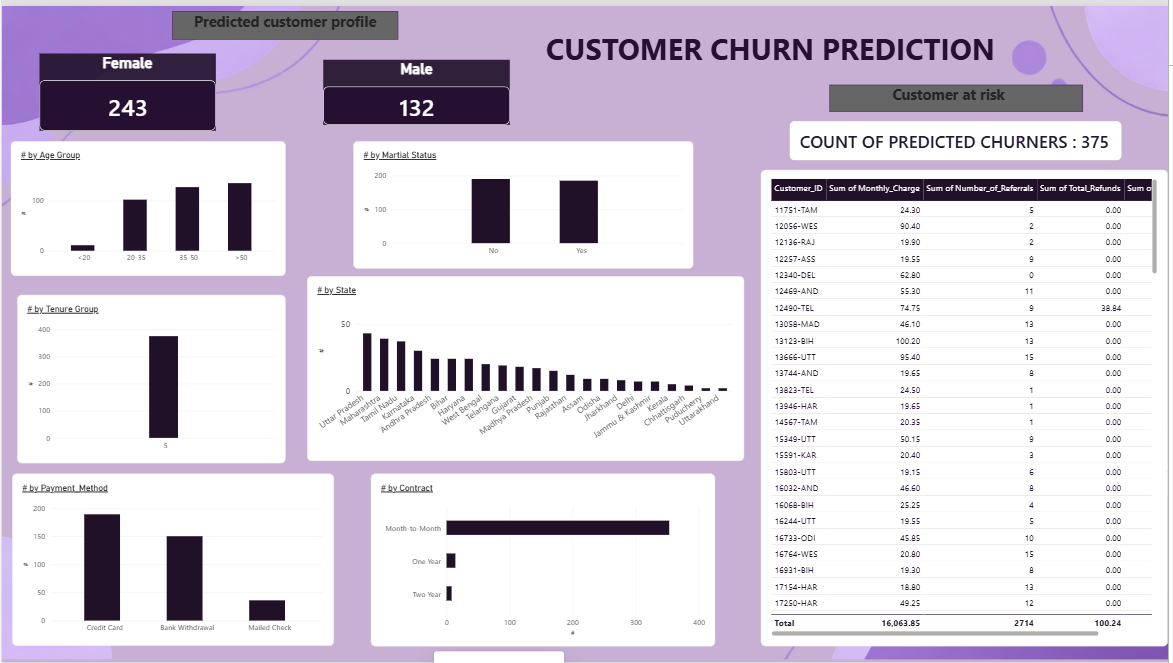

Layout of this report page (visuals, bound fields, positions):
{"tool":"powerbi","page":{"name":"Churn Prediction","canvas":[1920,1080],"ordinal":2},"visuals":[{"type":"tableEx","fields":{"Values":["Predictions.Customer_ID","Sum(Predictions.Monthly_Charge)","Sum(Predictions.Number_of_Referrals)","Sum(Predictions.Total_Refunds)","Sum(Predictions.Total_Revenue)"]},"box":[1250,270,670,785],"z":0},{"type":"cardVisual","fields":{"Data":["tbl_Measures.Title Predicted Churner"]},"box":[1297.5,190,547.5,65],"z":1},{"type":"cardVisual","title":"Female","fields":{"Data":["tbl_Measures.Count Predicted Churner"]},"box":[62.5,77.5,290,127.5],"z":2},{"type":"cardVisual","title":"Male","fields":{"Data":["tbl_Measures.Count Predicted Churner"]},"box":[530,87.5,307.5,107.5],"z":3},{"type":"clusteredColumnChart","fields":{"Category":["mapping_AgeGrp.Age Group"],"Y":["CountNonNull(Predictions.Customer_ID)"]},"box":[15,222.5,452.5,222.5],"z":4},{"type":"clusteredColumnChart","fields":{"Category":["Predictions.Married"],"Y":["CountNonNull(Predictions.Customer_ID)"]},"box":[577.5,222.5,560,210],"z":5},{"type":"clusteredColumnChart","fields":{"Category":["mapping_TenureGrp.Tenure Group"],"Y":["CountNonNull(Predictions.Customer_ID)"]},"box":[25,475,442.5,277.5],"z":6},{"type":"clusteredColumnChart","fields":{"Category":["Predictions.Payment_Method"],"Y":["CountNonNull(Predictions.Customer_ID)"]},"box":[16,770,530,284],"z":7},{"type":"clusteredBarChart","fields":{"Category":["Predictions.Contract"],"Y":["CountNonNull(Predictions.Customer_ID)"]},"box":[607.5,770,567.5,285],"z":8},{"type":"clusteredColumnChart","fields":{"Category":["Predictions.State"],"Y":["CountNonNull(Predictions.Customer_ID)"]},"box":[502.5,445,720,305],"z":9},{"type":"textbox","box":[685,37.5,1160,137.5],"z":11},{"type":"shape","box":[1362.5,130,417.5,45],"z":12},{"type":"textbox","box":[1317.5,130,482.5,60],"z":13},{"type":"shape","box":[280,7.5,372.5,47.5],"z":14},{"type":"textbox","box":[280,7.5,372.5,47.5],"z":15}]}

Visuals, with their boxes in screenshot pixels (x1, y1, x2, y2), scaled from the page's 1920x1080 canvas onto the 1173x663 screenshot:
tableEx - Predictions.Customer_ID x Sum(Predictions.Monthly_Charge): 764:166:1172:648
cardVisual - tbl_Measures.Title Predicted Churner: 793:117:1127:157
"Female" cardVisual: 38:48:215:126
"Male" cardVisual: 324:54:512:120
clusteredColumnChart - mapping_AgeGrp.Age Group x CountNonNull(Predictions.Customer_ID): 9:137:286:273
clusteredColumnChart - Predictions.Married x CountNonNull(Predictions.Customer_ID): 353:137:695:266
clusteredColumnChart - mapping_TenureGrp.Tenure Group x CountNonNull(Predictions.Customer_ID): 15:292:286:462
clusteredColumnChart - Predictions.Payment_Method x CountNonNull(Predictions.Customer_ID): 10:473:334:647
clusteredBarChart - Predictions.Contract x CountNonNull(Predictions.Customer_ID): 371:473:718:648
clusteredColumnChart - Predictions.State x CountNonNull(Predictions.Customer_ID): 307:273:747:460
textbox: 418:23:1127:107
shape: 832:80:1087:107
textbox: 805:80:1100:117
shape: 171:5:399:34
textbox: 171:5:399:34
